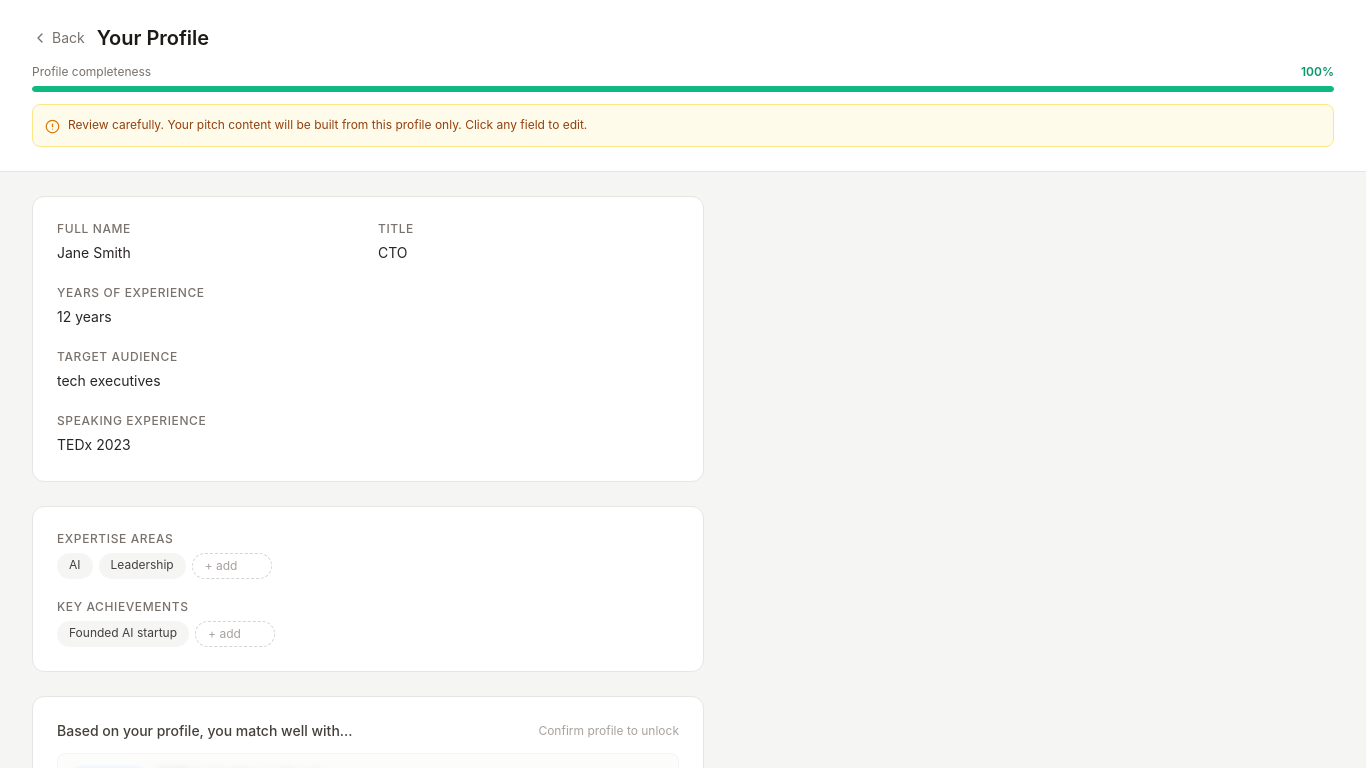
Test: BackButton warning modal › dismisses modal when Stay on this page is clicked
The width and height of the screenshot is (1366, 768).
Click the button "Back": click(58, 38) x1=32 y1=28 x2=85 y2=48
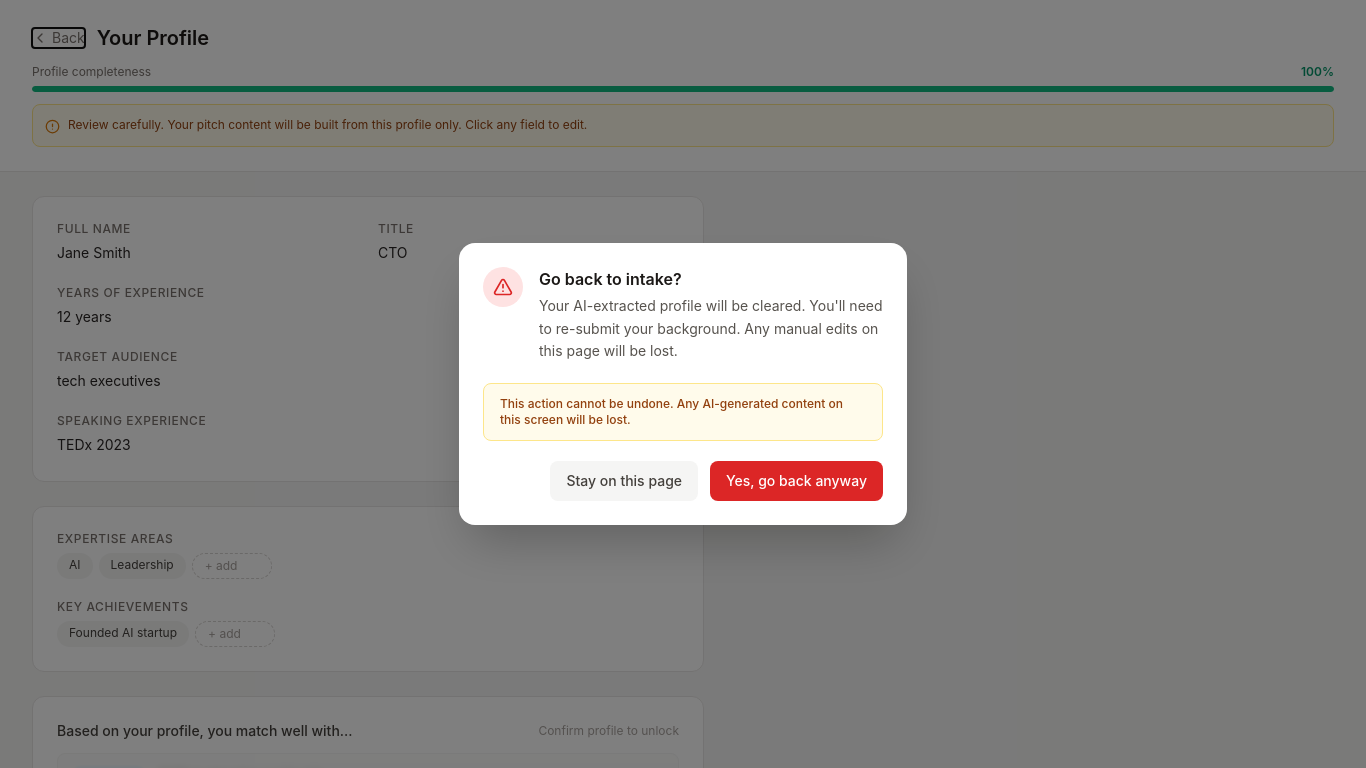
Check: the button "Stay on this page" is shown
Click the button "Stay on this page": click(624, 481) x1=550 y1=461 x2=698 y2=501
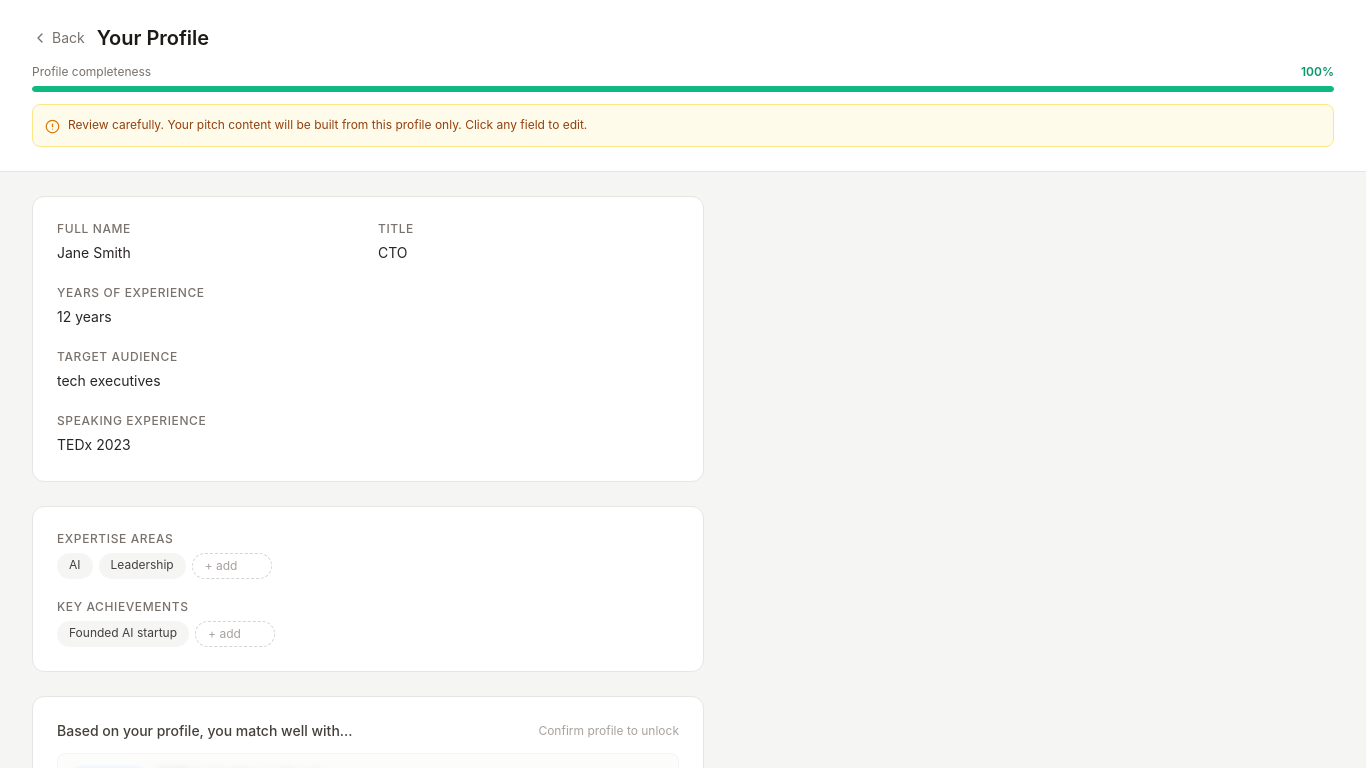
Check: the heading "Go back to intake?" is gone
